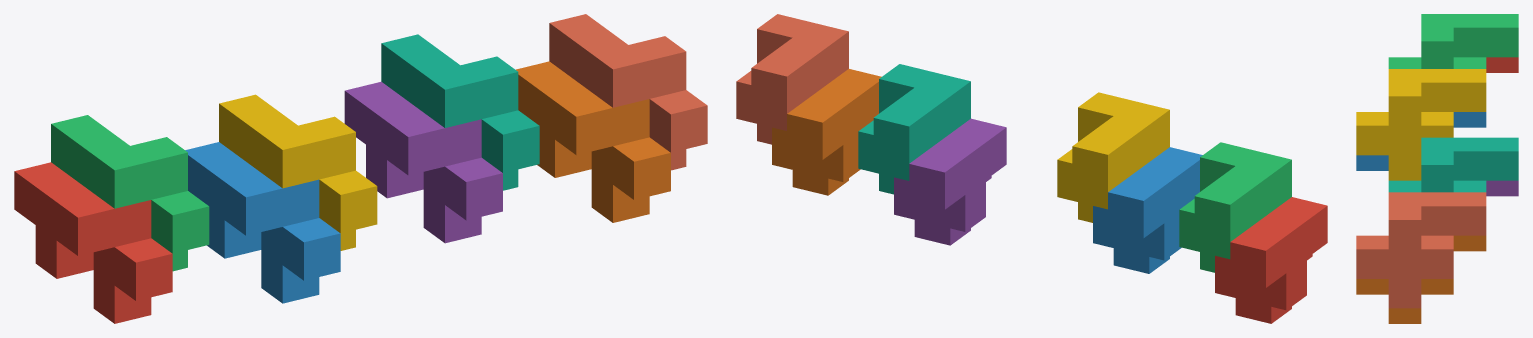
Rendered from tiling.obj.
3 views of the same model, side by side, from view 1: azimuth 30°, elevation 25°; view 2: azimuth 150°, elevation 25°; view 3: azimuth 270°, elevation 25° (orthographic). The views are drawn at different scales.
Parts seen in each view (by area): view 1: copy_1_domain_1, copy_1_domain_5, copy_1_domain_6, copy_1_domain_2, copy_1_domain_7, copy_1_domain_8, copy_1_domain_3, copy_1_domain_4; view 2: copy_1_domain_1, copy_1_domain_5, copy_1_domain_3, copy_1_domain_7, copy_1_domain_4, copy_1_domain_8, copy_1_domain_2, copy_1_domain_6; view 3: copy_1_domain_8, copy_1_domain_4, copy_1_domain_7, copy_1_domain_3, copy_1_domain_6, copy_1_domain_2, copy_1_domain_5, copy_1_domain_1.
Boxes of the visible parts, x1,y1,x2,y2 form: copy_1_domain_1: (14,162,172,323); copy_1_domain_5: (344,81,502,243); copy_1_domain_6: (516,61,670,222); copy_1_domain_2: (185,142,340,303); copy_1_domain_7: (381,34,539,190); copy_1_domain_8: (549,14,707,170); copy_1_domain_3: (51,115,209,271); copy_1_domain_4: (219,94,377,250); copy_1_domain_1: (1215,197,1327,323); copy_1_domain_5: (894,118,1006,245); copy_1_domain_3: (1179,142,1291,272); copy_1_domain_7: (858,64,970,194); copy_1_domain_4: (1057,92,1169,222); copy_1_domain_8: (736,14,848,144); copy_1_domain_2: (1093,147,1202,273); copy_1_domain_6: (772,69,881,195); copy_1_domain_8: (1356,192,1486,308); copy_1_domain_4: (1356,69,1486,180); copy_1_domain_7: (1388,137,1518,192); copy_1_domain_3: (1388,14,1518,68); copy_1_domain_6: (1356,235,1486,323); copy_1_domain_2: (1356,112,1486,170); copy_1_domain_5: (1486,180,1518,196); copy_1_domain_1: (1486,57,1518,72).
Size of the model in its own units: 16 by 4 by 5.
